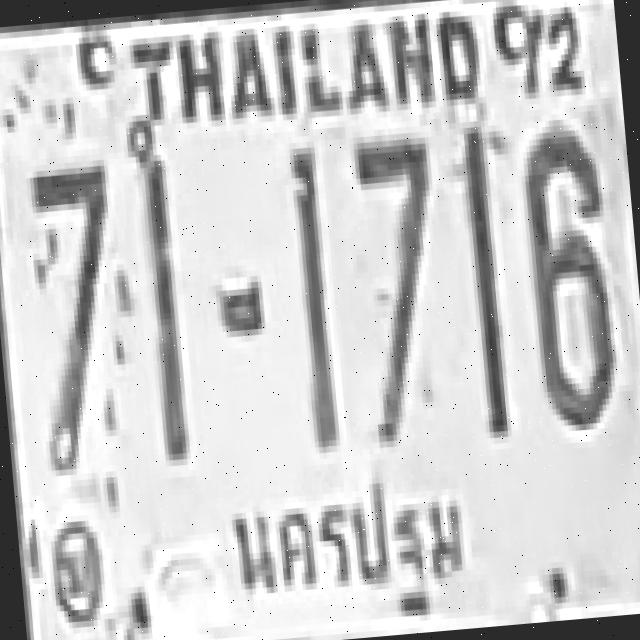1: (454, 124, 509, 436), (135, 145, 190, 457), (287, 146, 338, 448)
6: (517, 122, 618, 428)
7: (21, 160, 130, 470), (351, 134, 448, 439), (350, 132, 442, 378)
NakhonPathom: (221, 453, 473, 640)
